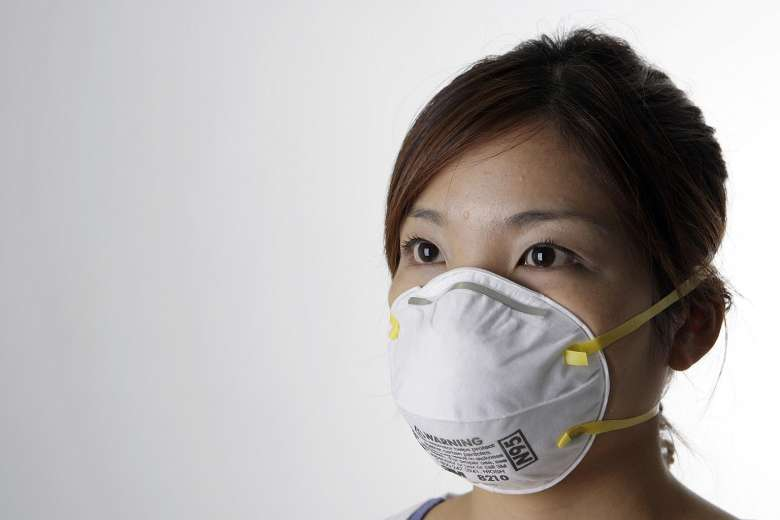n95: (371, 266, 614, 500)
